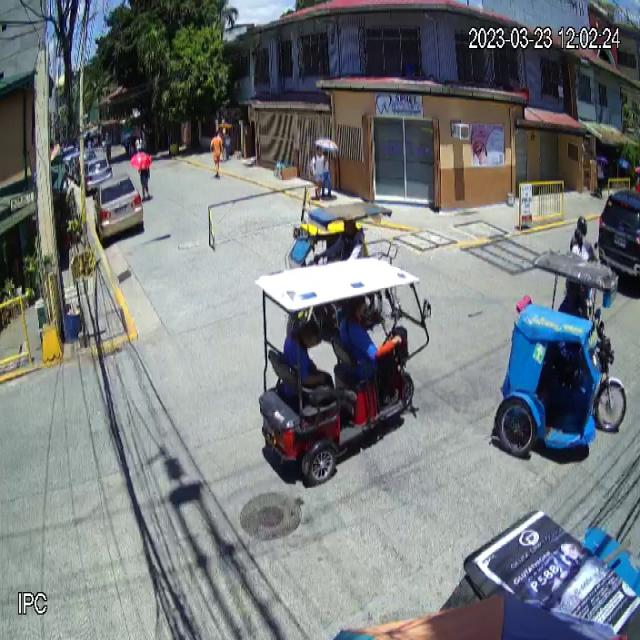Car: (92, 173, 144, 242)
Tricycle: (492, 248, 626, 464)
